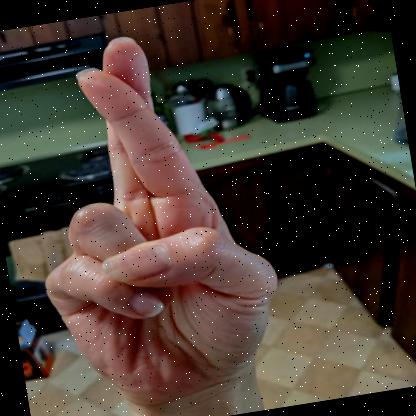R: (44, 36, 277, 413)
